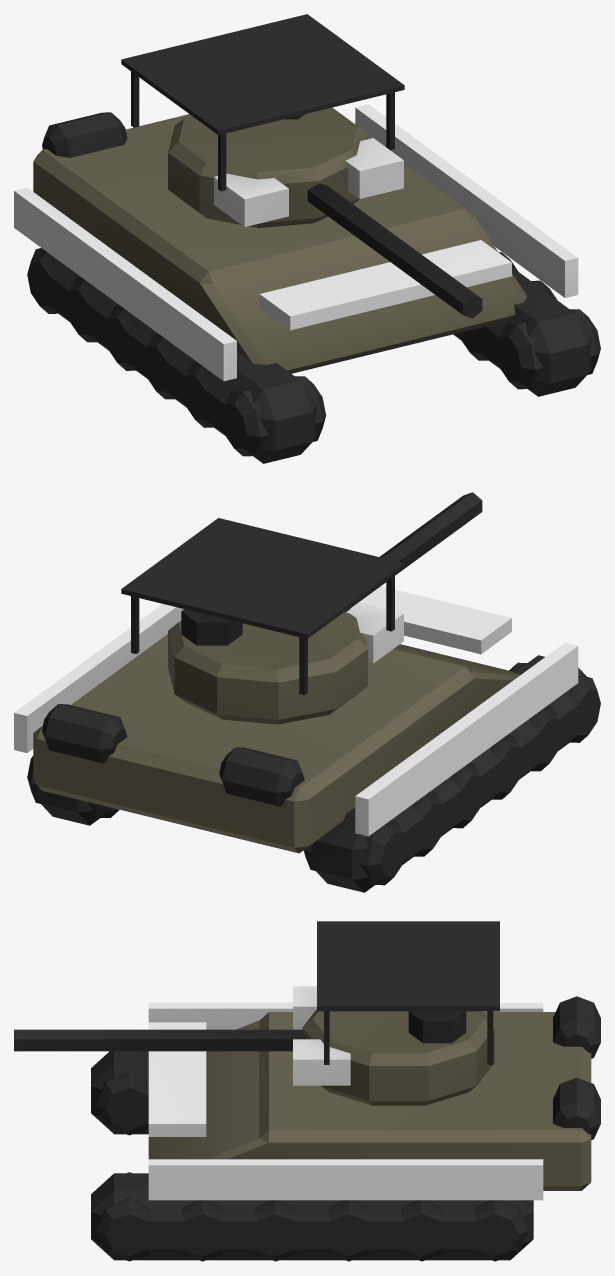
The picture shows the model from 3 angles, top to bottom: view 1: azimuth 30°, elevation 25°; view 2: azimuth 150°, elevation 25°; view 3: azimuth 270°, elevation 25°; orthographic projection. The views are drawn at different scales.
Visible parts, largest first — view 1: ru-t-72b3, turret; view 2: ru-t-72b3, turret; view 3: ru-t-72b3, turret.
Boxes of the visible parts, left/top/right/bottom form: ru-t-72b3: left=14, top=104, right=600, bottom=463; turret: left=121, top=14, right=482, bottom=318; ru-t-72b3: left=14, top=586, right=600, bottom=892; turret: left=121, top=492, right=482, bottom=724; ru-t-72b3: left=91, top=996, right=600, bottom=1261; turret: left=14, top=921, right=499, bottom=1105.
Size of the model in its own units: 0.8 by 0.515 by 1.22.
